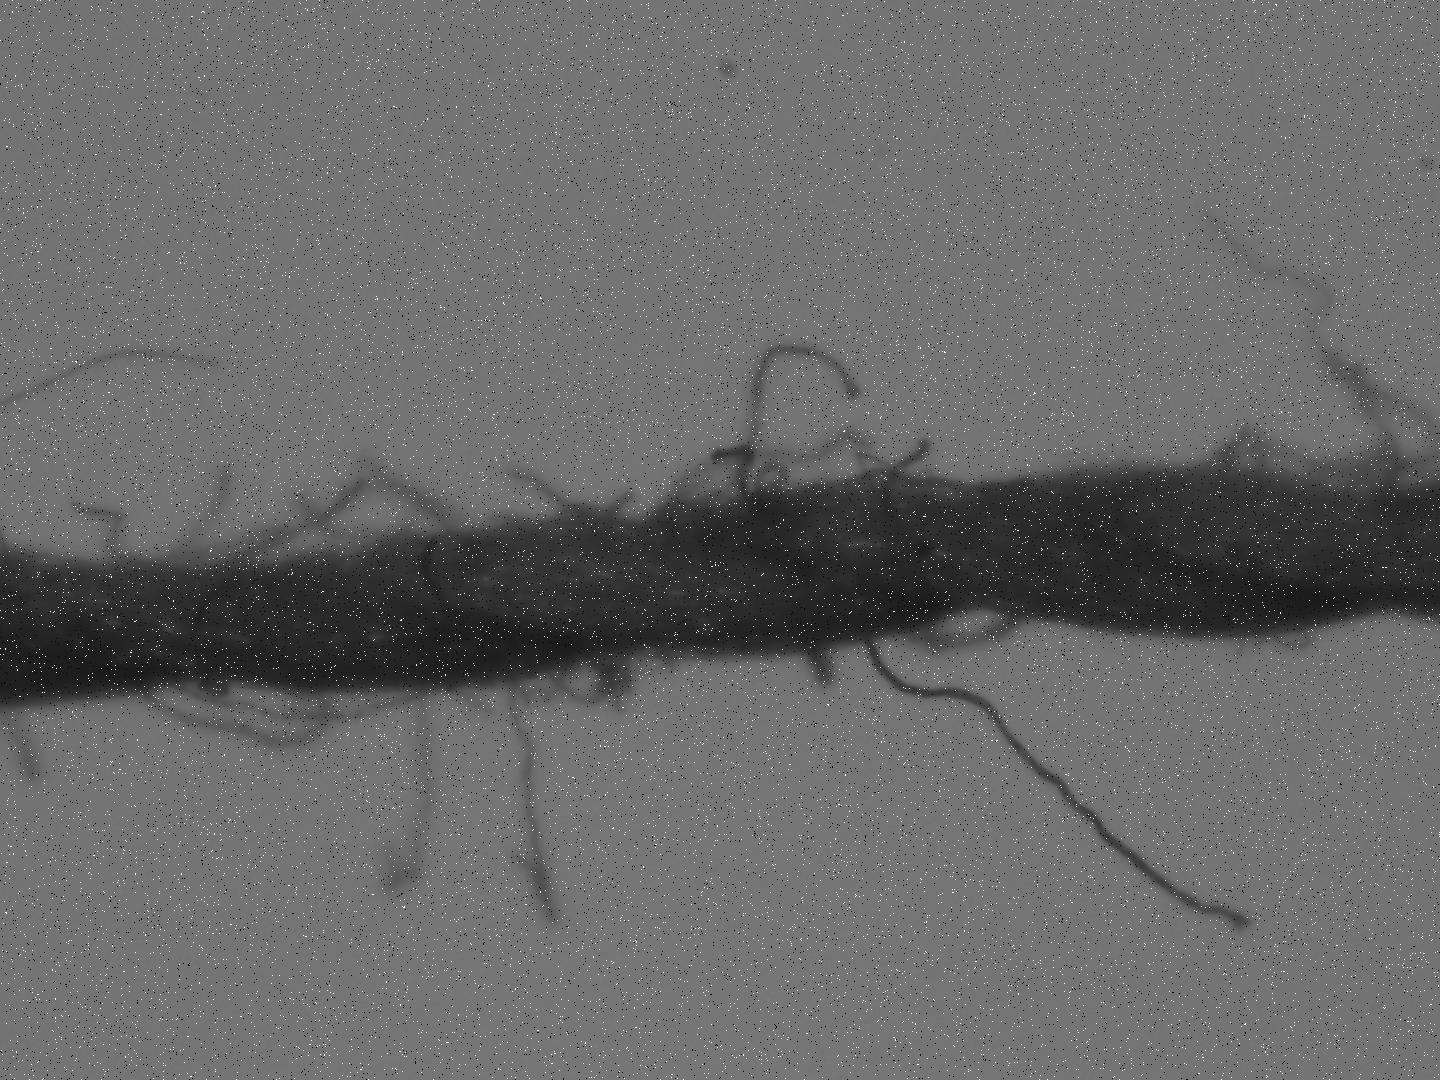loop_fiber: (1203, 357, 1437, 500), (138, 676, 333, 749), (176, 686, 444, 725), (511, 649, 634, 712), (901, 607, 1027, 658), (152, 529, 294, 571), (858, 456, 989, 488), (1229, 626, 1310, 657), (794, 649, 832, 691), (635, 651, 687, 680)
protruding_fiber: (862, 639, 1252, 935), (1201, 209, 1399, 491), (736, 345, 862, 506), (658, 430, 879, 508), (0, 345, 229, 415), (500, 685, 558, 933), (215, 483, 371, 568), (382, 685, 433, 896), (362, 455, 457, 543), (155, 466, 235, 571), (70, 501, 151, 575), (503, 467, 594, 526), (296, 495, 404, 542), (887, 431, 931, 480), (9, 716, 36, 784), (599, 490, 639, 517)
